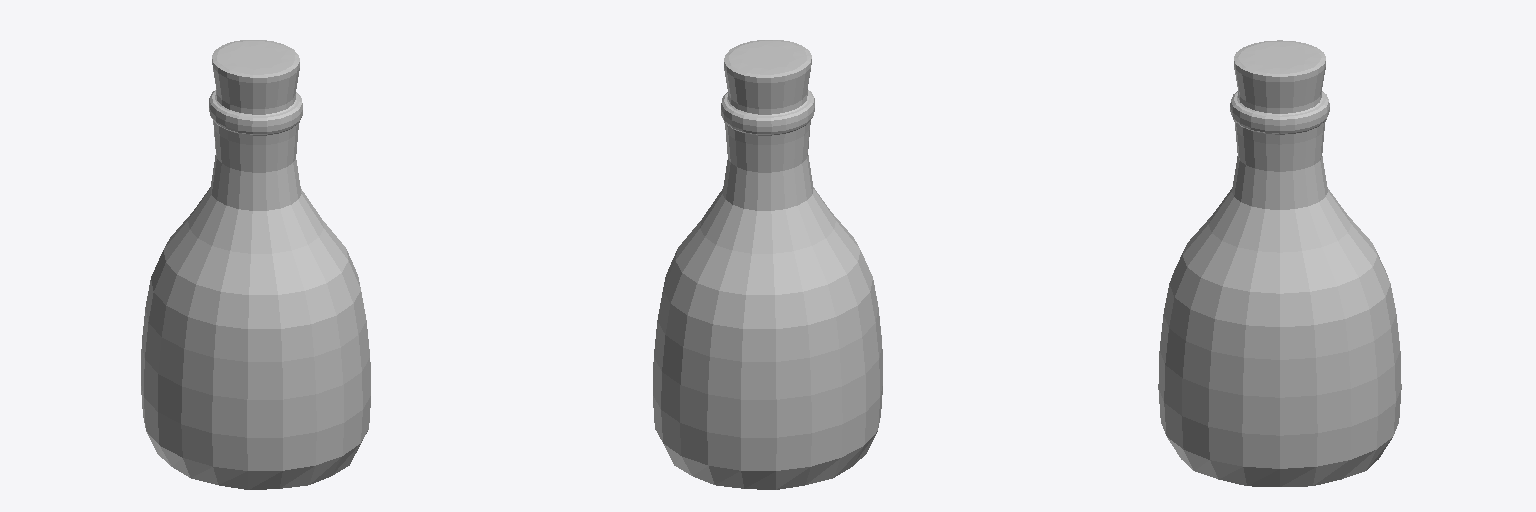
The model's file is potion.obj.
The picture shows the model from 3 angles: view 1: azimuth 30°, elevation 25°; view 2: azimuth 150°, elevation 25°; view 3: azimuth 270°, elevation 25°; orthographic projection.
Size of the model in its own units: 25.12 by 48.42 by 26.88.